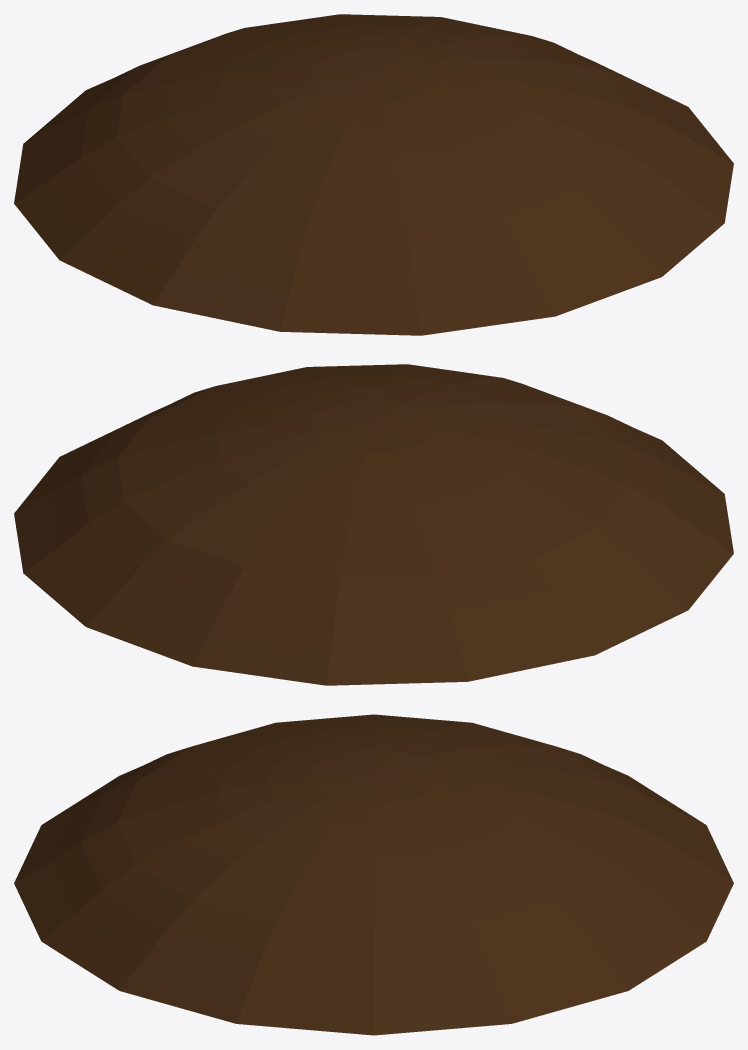
The model's file is Earth Oven Covered.fbx.
The picture shows the model from 3 angles, top to bottom: view 1: azimuth 30°, elevation 25°; view 2: azimuth 150°, elevation 25°; view 3: azimuth 270°, elevation 25°; orthographic projection.
Parts seen in each view (by area): view 1: Earth Oven covered; view 2: Earth Oven covered; view 3: Earth Oven covered.
Part boxes in pixels (bbox=[...]): Earth Oven covered: bbox=[14, 14, 733, 335]; Earth Oven covered: bbox=[14, 364, 733, 685]; Earth Oven covered: bbox=[14, 714, 733, 1035].
Size of the model in its own units: 217 by 36.69 by 217.
